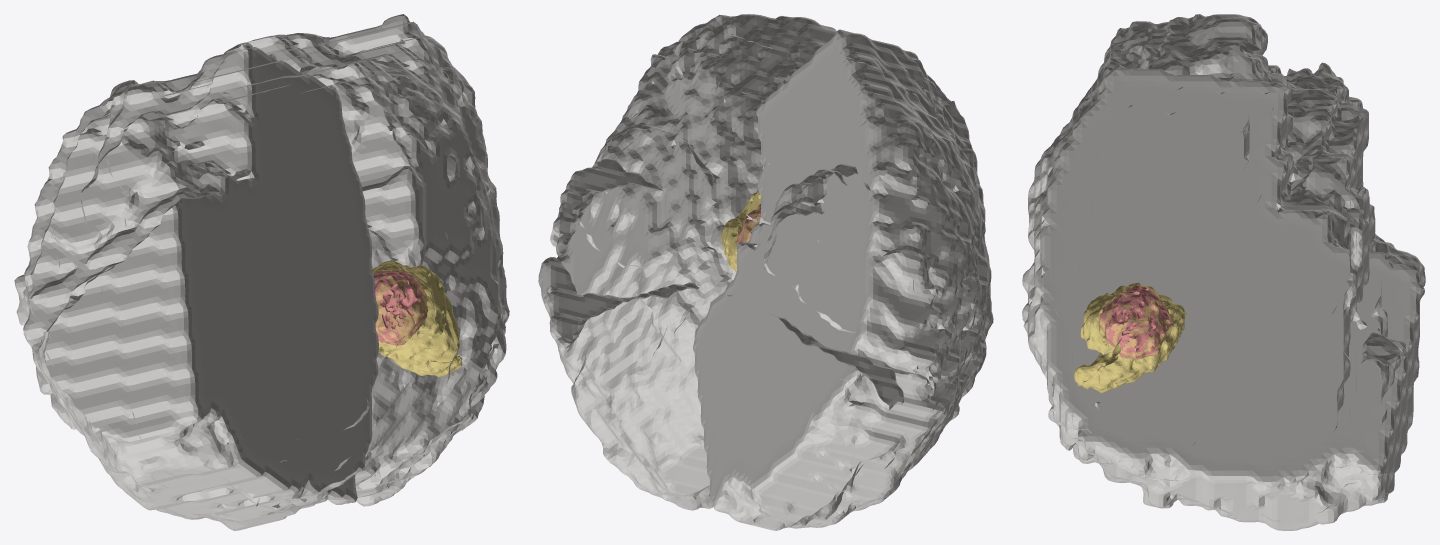
3 views of the same model, side by side, from view 1: azimuth 30°, elevation 25°; view 2: azimuth 150°, elevation 25°; view 3: azimuth 270°, elevation 25° (orthographic). The views are drawn at different scales.
Parts seen in each view (by area): view 1: brain_left, brain_right, edema, enhancing, core; view 2: brain_left, brain_right, edema; view 3: brain_right, brain_left, edema, enhancing, core.
Part boxes in pixels (<box>): brain_left: <box>14,42,378,530</box>; brain_right: <box>248,14,509,506</box>; edema: <box>372,260,462,376</box>; enhancing: <box>373,270,427,345</box>; core: <box>373,269,427,345</box>; brain_left: <box>693,29,993,530</box>; brain_right: <box>538,14,836,510</box>; edema: <box>721,190,761,272</box>; brain_right: <box>1023,64,1424,530</box>; brain_left: <box>1022,14,1425,322</box>; edema: <box>1074,282,1186,393</box>; enhancing: <box>1099,284,1171,359</box>; core: <box>1099,285,1171,359</box>.
Bounding box in the file's own units: 140 × 150 × 128.
